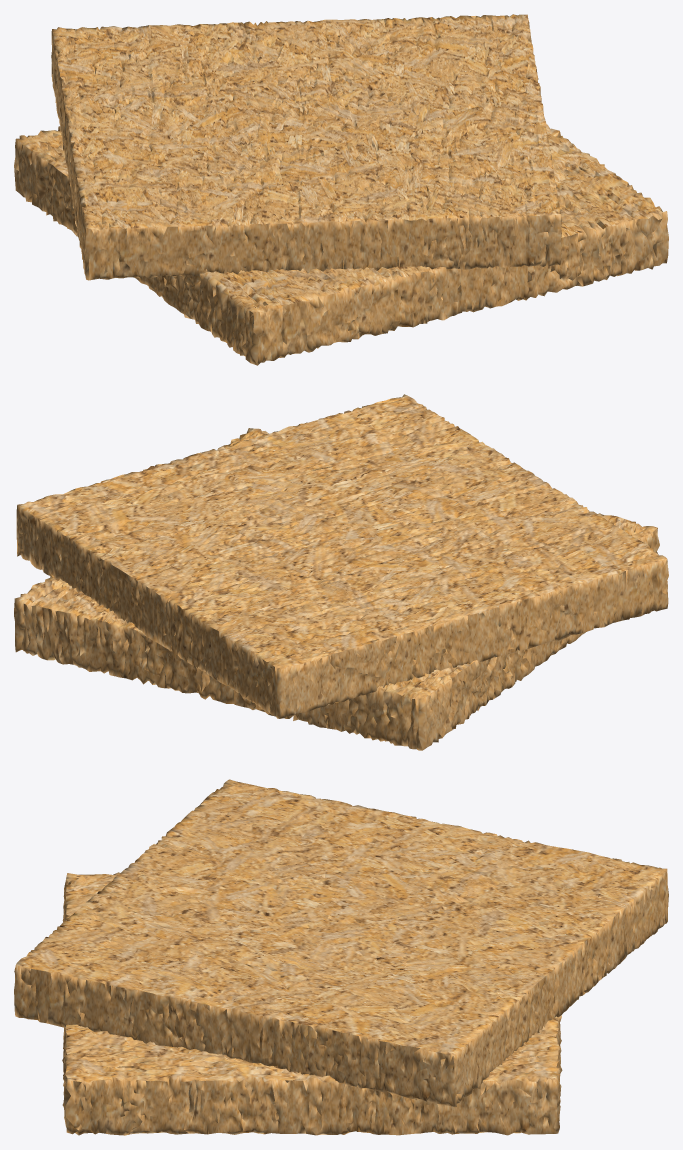
Rendered from Rice husk ash compos.fbx.
The picture shows the model from 3 angles, top to bottom: view 1: azimuth 30°, elevation 25°; view 2: azimuth 150°, elevation 25°; view 3: azimuth 270°, elevation 25°; orthographic projection. The views are drawn at different scales.
Parts seen in each view (by area): view 1: Rice husk ash composite panel .001_Baked, Rice husk ash composite panel _Baked; view 2: Rice husk ash composite panel .001_Baked, Rice husk ash composite panel _Baked; view 3: Rice husk ash composite panel .001_Baked, Rice husk ash composite panel _Baked.
Boxes of the visible parts, left/top/right/bottom form: Rice husk ash composite panel .001_Baked: left=51, top=14, right=561, bottom=280; Rice husk ash composite panel _Baked: left=14, top=124, right=668, bottom=365; Rice husk ash composite panel .001_Baked: left=16, top=394, right=668, bottom=718; Rice husk ash composite panel _Baked: left=14, top=428, right=659, bottom=750; Rice husk ash composite panel .001_Baked: left=14, top=779, right=668, bottom=1106; Rice husk ash composite panel _Baked: left=62, top=872, right=562, bottom=1135.
Size of the model in its own units: 407 by 74.77 by 407.
